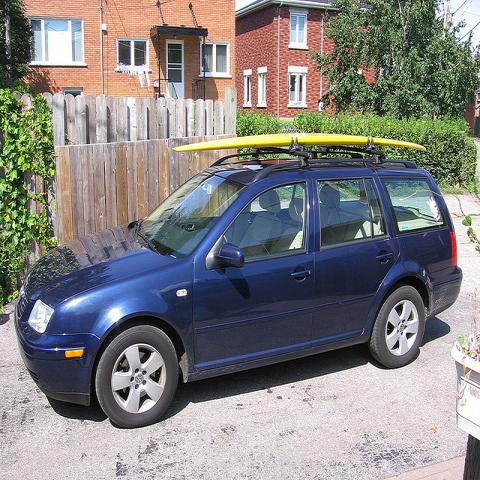car: (17, 147, 461, 430)
